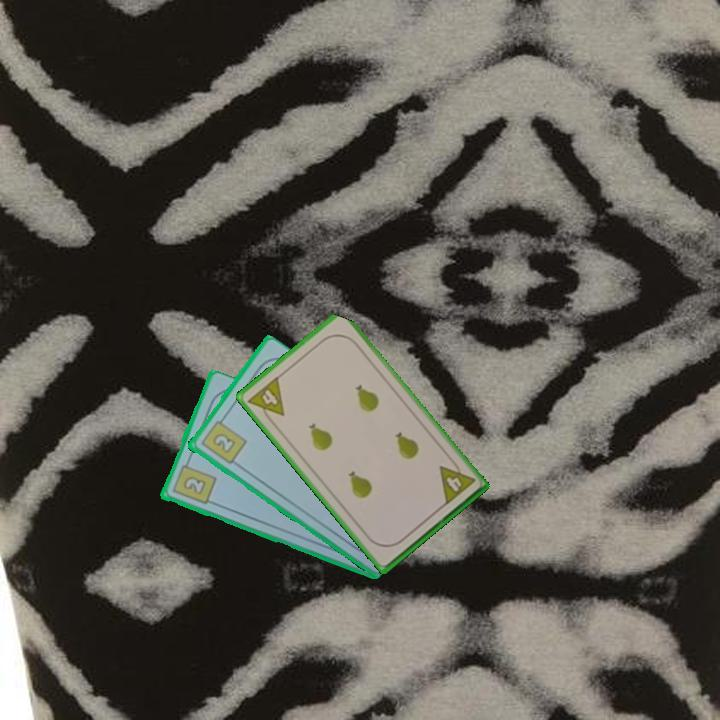2b: (197, 413, 249, 467), (168, 456, 218, 508)
4p: (244, 373, 287, 427), (435, 455, 478, 508)
